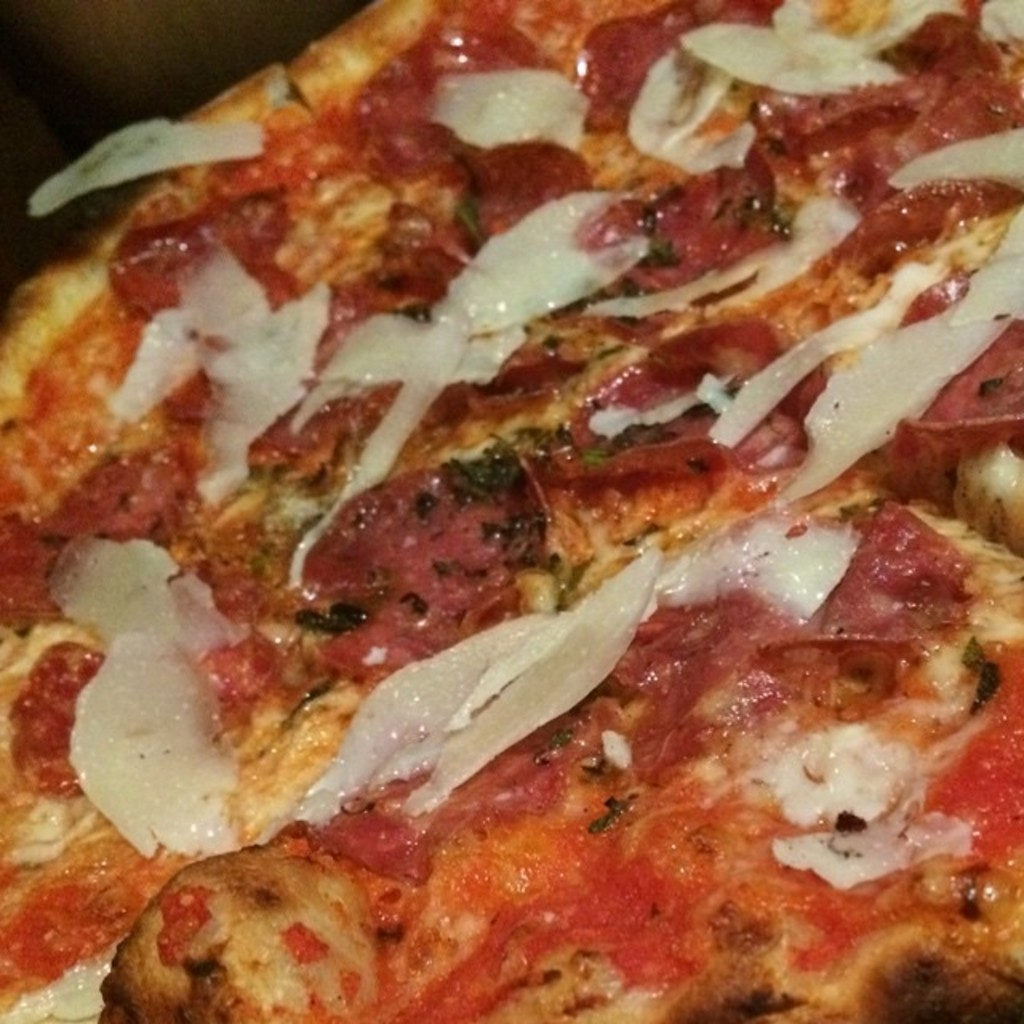Pizza: (0, 0, 1022, 1022)
